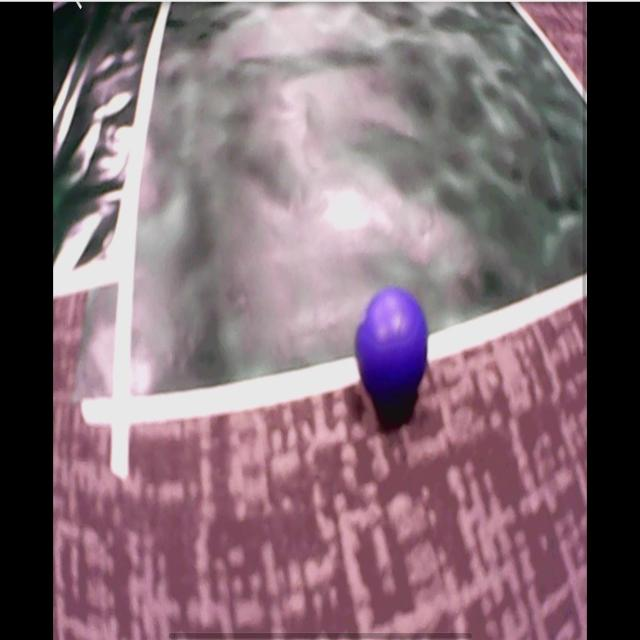ball: (356, 286, 430, 403)
